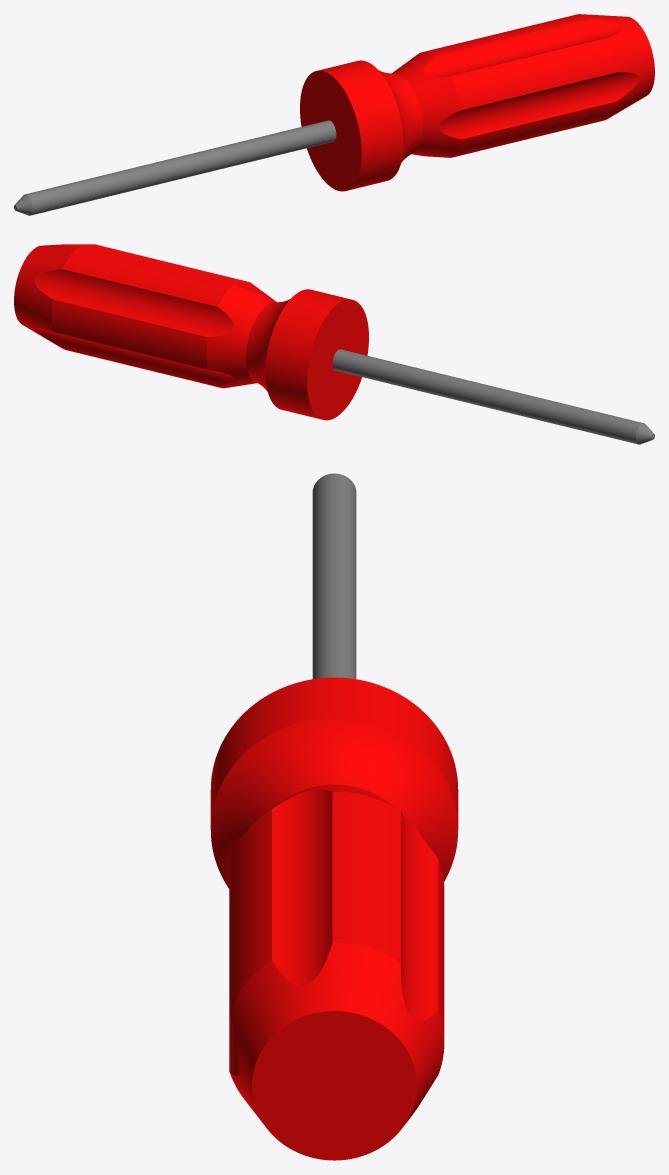
File: Screwdriver.obj
3 views of the same model, one above another, from view 1: azimuth 30°, elevation 25°; view 2: azimuth 150°, elevation 25°; view 3: azimuth 270°, elevation 25° (orthographic). The views are drawn at different scales.
Visible parts, largest first — view 1: mesh2, mesh8, mesh17, mesh4, mesh3, mesh12, mesh6, mesh18, mesh7, mesh5, mesh11; view 2: mesh2, mesh13, mesh4, mesh10, mesh3, mesh11, mesh6, mesh18, mesh14, mesh5, mesh12; view 3: mesh19, mesh5, mesh18, mesh12, mesh11, mesh4, mesh2, mesh13, mesh8, mesh10.
Part boxes in pixels (x1,y1,x2,y2): mesh2: (26,120,336,215); mesh8: (450,38,616,110); mesh17: (439,72,639,139); mesh4: (318,60,403,190); mesh3: (300,70,361,191); mesh12: (423,18,622,77); mesh6: (392,52,461,157); mesh18: (583,14,654,118); mesh7: (451,102,615,157); mesh5: (378,70,422,162); mesh11: (424,14,589,56); mesh2: (332,349,643,444); mesh13: (34,269,233,337); mesh4: (265,289,350,419); mesh10: (51,299,207,369); mesh3: (307,299,368,420); mesh11: (62,246,233,306); mesh6: (206,283,276,388); mesh18: (14,244,78,342); mesh14: (34,327,234,386); mesh5: (246,299,289,391); mesh12: (61,244,260,292); mesh19: (252,1011,416,1160); mesh5: (210,718,458,888); mesh18: (229,942,444,1124); mesh12: (272,789,332,985); mesh11: (332,791,400,962); mesh4: (210,677,458,829); mesh2: (312,473,356,678); mesh13: (401,812,438,1021); mesh8: (229,809,271,1012); mesh10: (438,859,444,1035).
Size of the model in its own units: 0.1321 by 0.0229 by 0.0229.
